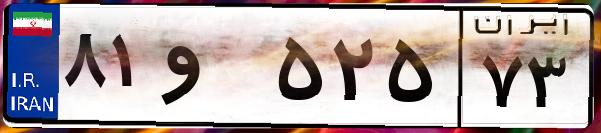1: (110, 28, 158, 98)
2: (330, 28, 385, 110)
3: (525, 38, 570, 115)
5: (270, 28, 330, 110), (385, 28, 445, 110)
7: (475, 38, 525, 113)
8: (57, 26, 110, 100)
و: (158, 20, 270, 120)
